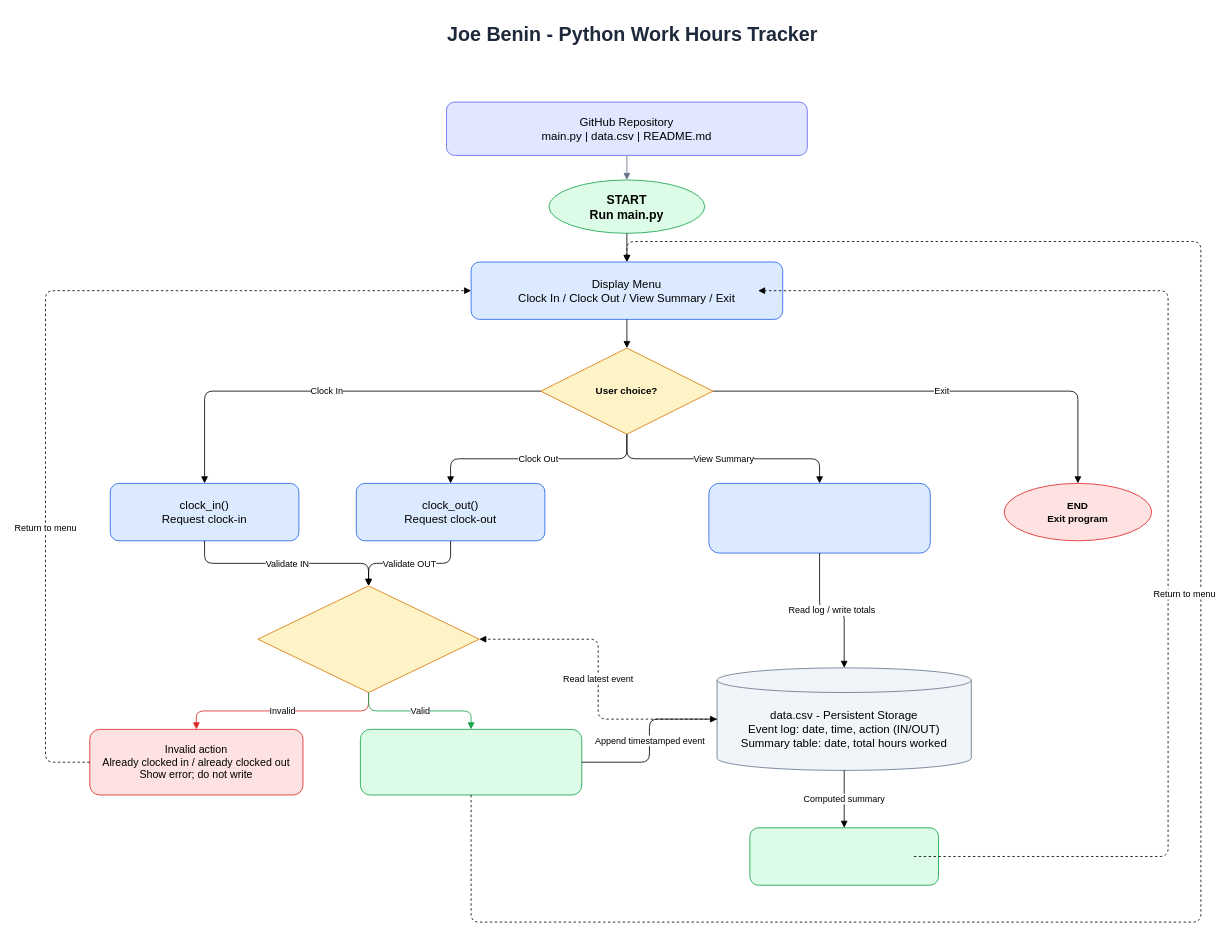
Image size: 1229x943. Some labels were removed from this diagram. Each missing label, with the box of its shape:
Display total hours and updated summary: (749, 827, 938, 885)
Valid action Get current date & time Append IN or OUT event to log: (360, 729, 582, 795)
verify() Check latest session state in data.csv: (257, 585, 479, 692)
view_summary() Read completed sessions; calculate total hours worked: (708, 483, 930, 553)
